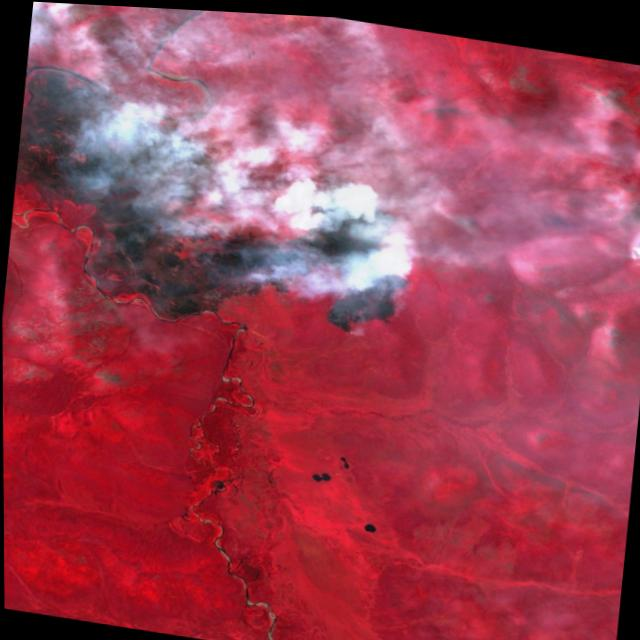fire: (267, 172, 429, 344), (210, 222, 251, 255)
